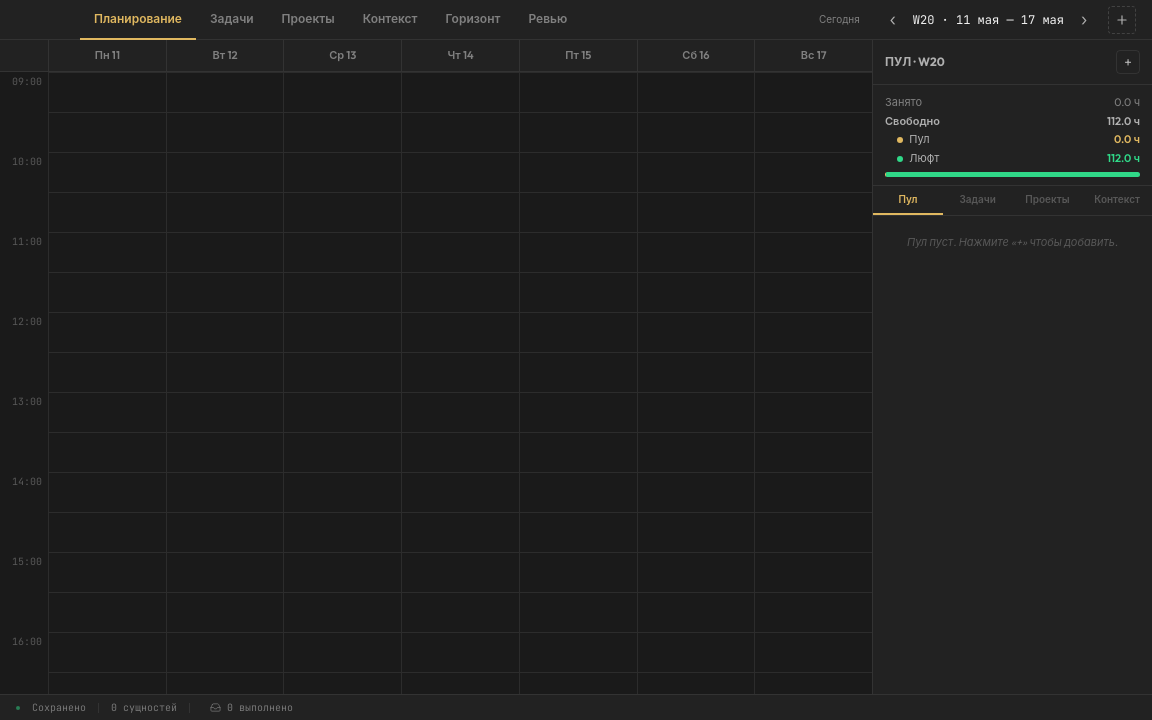
Test: cross-screen flow › Cmd+N creates a task and it shows up on Tasks
(page scrolled)
Type keys "{Meta>}[KeyN]{/Meta}"
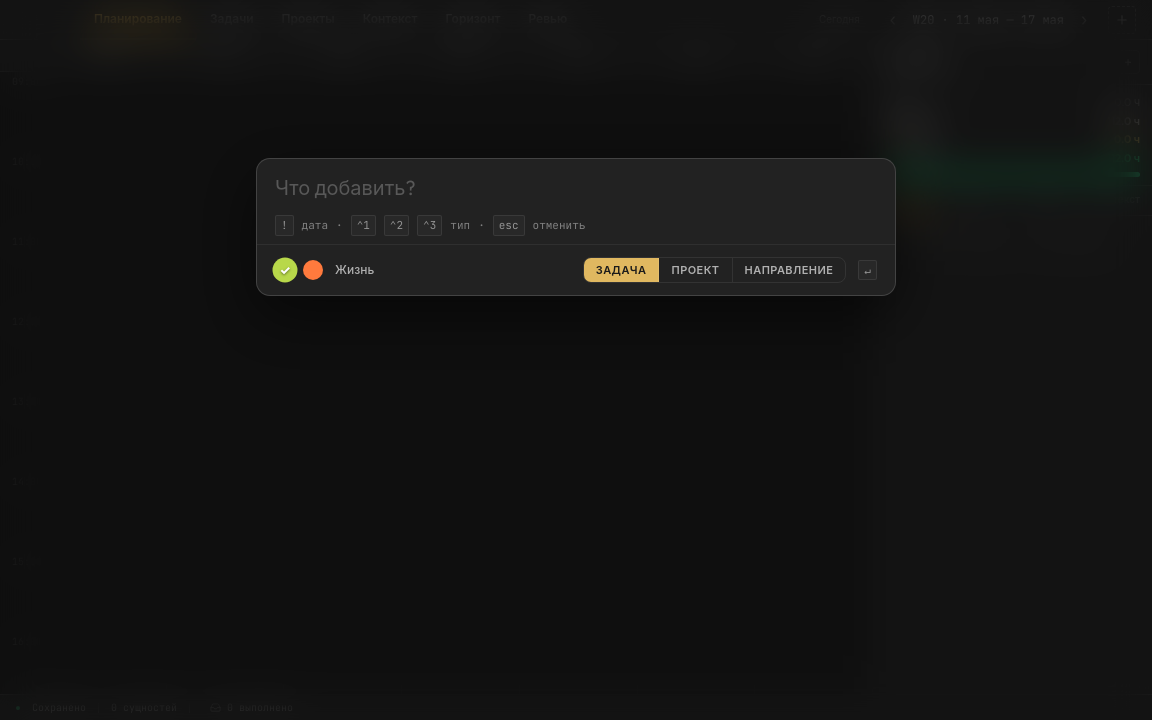
Now the dialog named "быстрое создание" is shown
In the field with placeholder "Что добавить?": (576, 187) [275,159,877,215], type "Smoke flow entity"
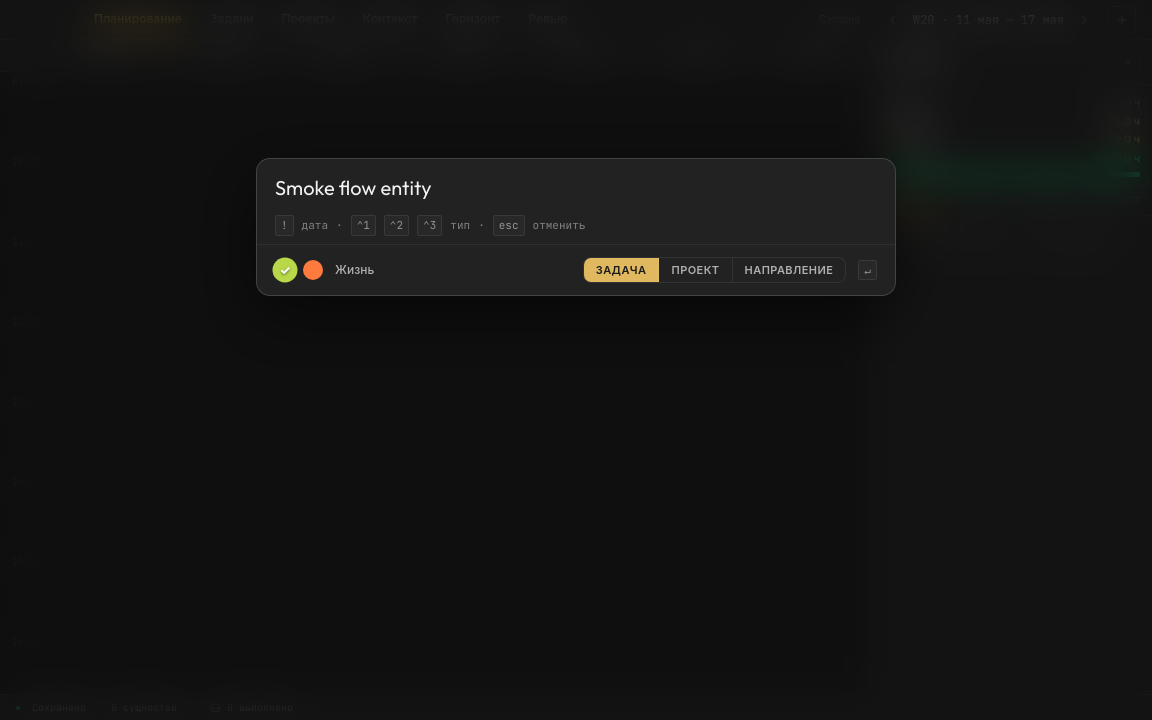
Press Enter
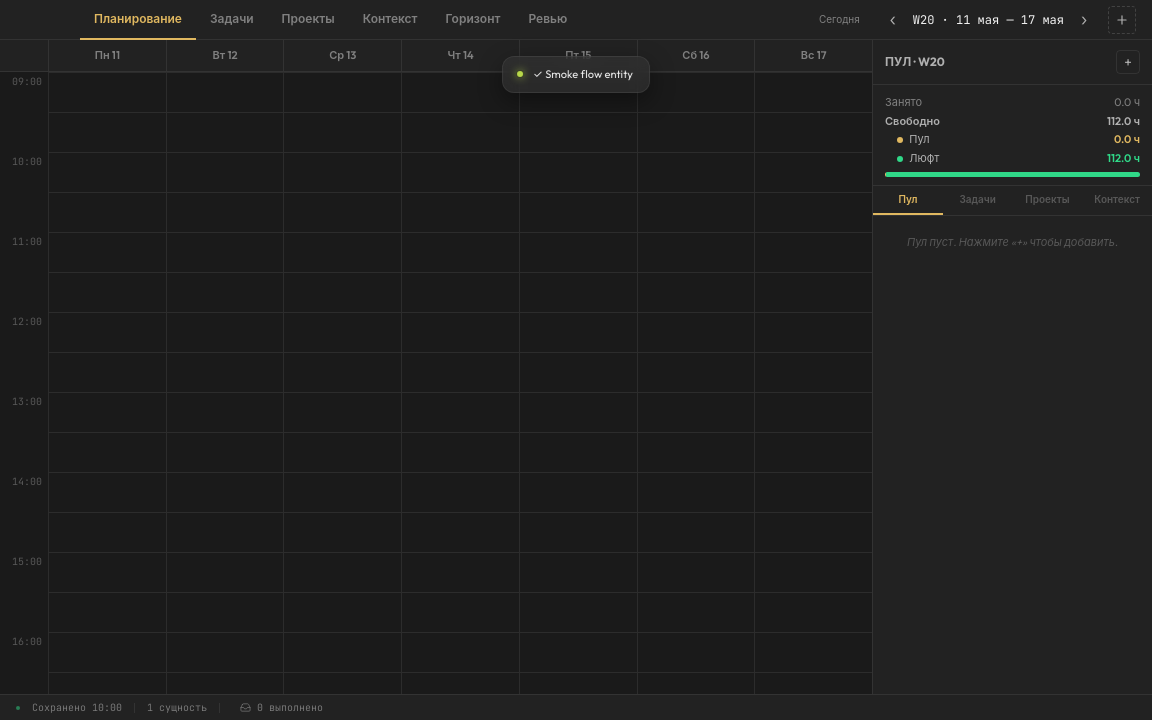
Click the button "Задачи": (232, 20) [196,0,268,40]
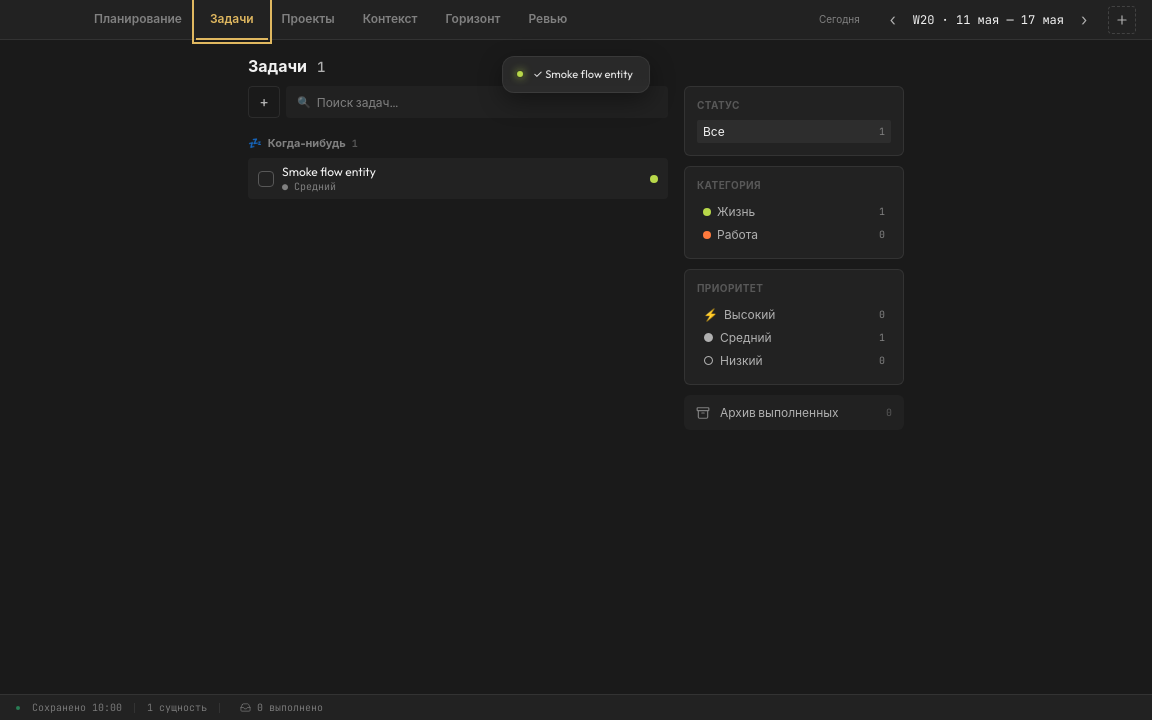
Now the text "Smoke flow entity" is shown, box [282,164,376,179]
